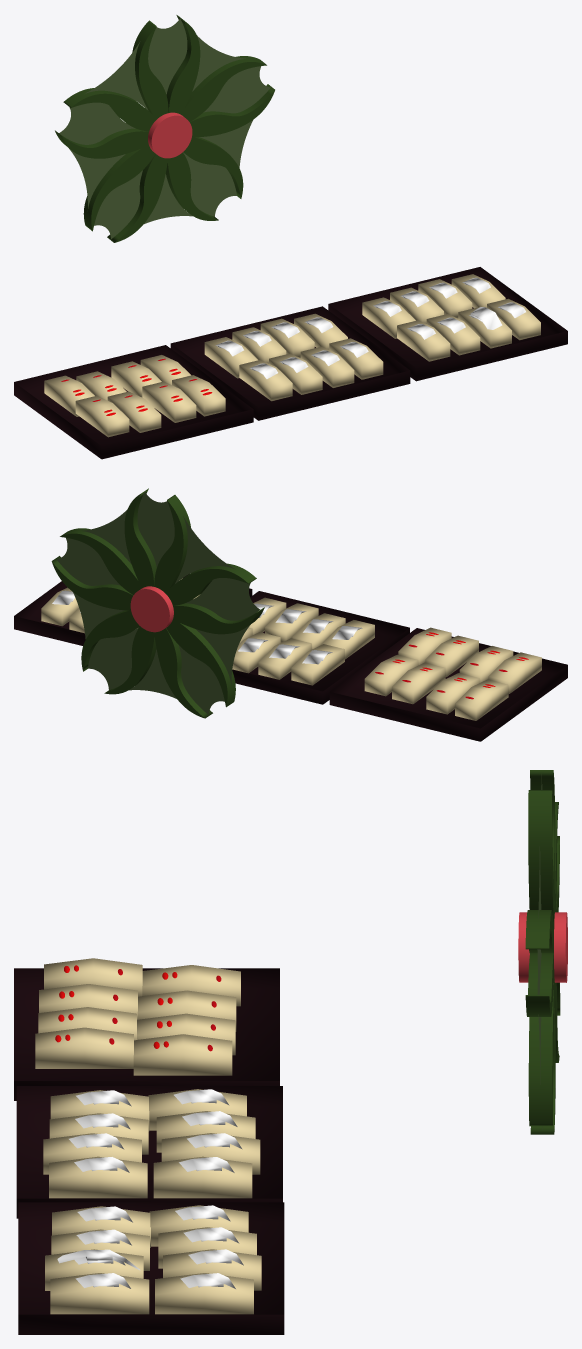
Rendered from asset.glb.
3 renders of one model, top to bottom at view 1: azimuth 30°, elevation 25°; view 2: azimuth 150°, elevation 25°; view 3: azimuth 270°, elevation 25°, orthographic. The views are drawn at different scales.
Visible parts, largest first — view 1: Plane.029, Plane.028, Plane.019, Curve.013, Curve.007, Curve.016, Curve.011, Curve.003, Curve.019, Curve.010, Curve.002, Curve (+36 smaller); view 2: Plane.029, Plane.019, Curve.013, Curve.011, Curve.007, Curve.016, Curve.003, Plane.028, Curve.019, Curve.010, Curve, Curve.017 (+28 smaller); view 3: Plane.028, Plane.029, Plane.019, Cube.037, Cube.036, Cube.010, Cube.023, Cube.015, Cube.018, Curve.017, Curve.001, Cube.040 (+21 smaller).
Boxes of the visible parts, left/top/right/bottom form: Plane.029: left=14, top=345, right=253, bottom=459; Plane.028: left=328, top=267, right=567, bottom=381; Plane.019: left=170, top=306, right=410, bottom=420; Curve.013: left=59, top=102, right=135, bottom=144; Curve.007: left=183, top=152, right=236, bottom=216; Curve.016: left=148, top=18, right=187, bottom=94; Curve.011: left=83, top=144, right=155, bottom=231; Curve.003: left=132, top=20, right=168, bottom=118; Curve.019: left=203, top=66, right=270, bottom=113; Curve.010: left=94, top=170, right=142, bottom=238; Curve.002: left=180, top=56, right=266, bottom=121; Curve: left=107, top=154, right=167, bottom=242; Plane.029: left=329, top=628, right=567, bottom=741; Plane.019: left=232, top=591, right=409, bottom=704; Curve.013: left=185, top=578, right=260, bottom=620; Curve.011: left=166, top=618, right=235, bottom=707; Curve.007: left=87, top=627, right=138, bottom=690; Curve.016: left=137, top=492, right=174, bottom=567; Curve.003: left=154, top=495, right=190, bottom=592; Plane.028: left=14, top=574, right=252, bottom=645; Curve.019: left=56, top=538, right=120, bottom=585; Curve.010: left=179, top=645, right=224, bottom=714; Curve: left=154, top=628, right=212, bottom=718; Curve.017: left=124, top=488, right=156, bottom=587; Plane.028: left=18, top=1202, right=284, bottom=1334; Plane.029: left=14, top=968, right=279, bottom=1100; Plane.019: left=16, top=1086, right=282, bottom=1218; Cube.037: left=133, top=1034, right=232, bottom=1075; Cube.036: left=35, top=1027, right=133, bottom=1068; Cube.010: left=153, top=1156, right=252, bottom=1198; Cube.023: left=50, top=1273, right=149, bottom=1314; Cube.015: left=49, top=1156, right=147, bottom=1198; Cube.018: left=155, top=1273, right=253, bottom=1314; Curve.017: left=528, top=790, right=554, bottom=928; Curve.001: left=528, top=975, right=554, bottom=1126; Cube.040: left=142, top=965, right=240, bottom=1006.
Size of the model in its own units: 6.16 by 3.2 by 4.16.
